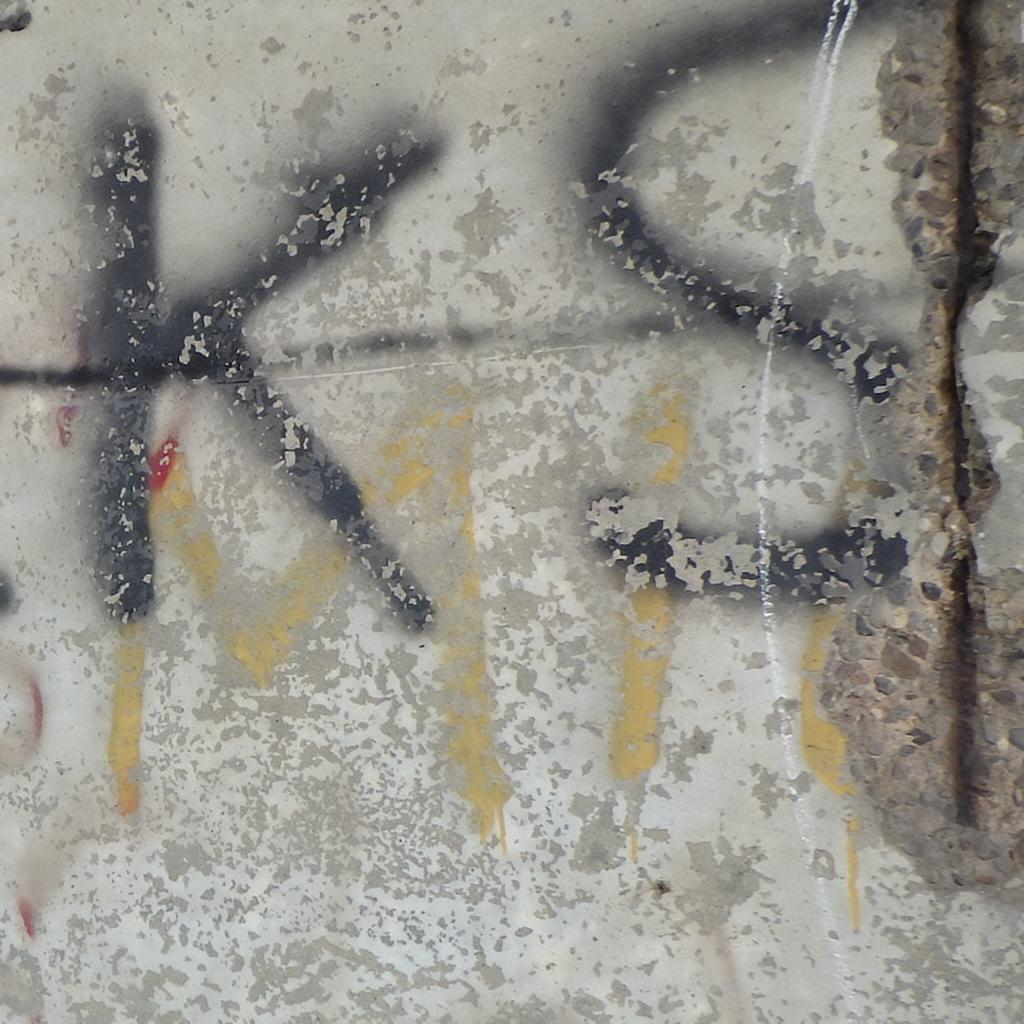exposed_rebar: (942, 0, 988, 803)
spalling: (820, 0, 1024, 879)
